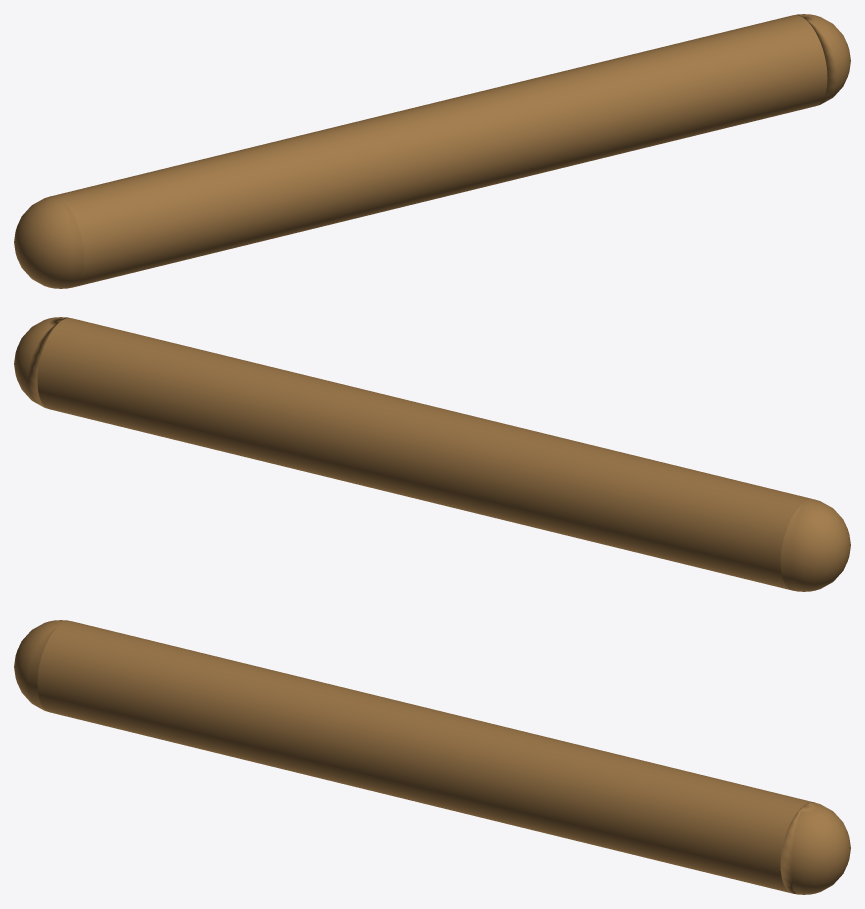
File: original-5.obj
3 views of the same model, one above another, from view 1: azimuth 30°, elevation 25°; view 2: azimuth 150°, elevation 25°; view 3: azimuth 330°, elevation 25° (orthographic).
Parts seen in each view (by area): view 1: Group6/mesh13/mesh13-geometry#mesh13-geometry; view 2: Group6/mesh13/mesh13-geometry#mesh13-geometry; view 3: Group6/mesh13/mesh13-geometry#mesh13-geometry.
Part boxes in pixels (x1,y1,x2,y2): Group6/mesh13/mesh13-geometry#mesh13-geometry: (14,14,850,288); Group6/mesh13/mesh13-geometry#mesh13-geometry: (14,317,850,591); Group6/mesh13/mesh13-geometry#mesh13-geometry: (14,620,850,894).
Bounding box in the file's own units: 0.1672 × 0.0165 × 0.0165.
